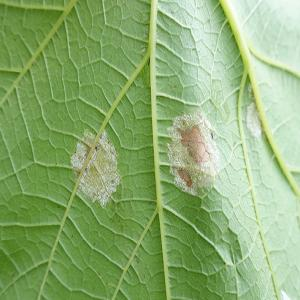Folha: (1, 0, 299, 299)
Fungo: (166, 110, 220, 195), (69, 128, 121, 209), (246, 100, 262, 138)
